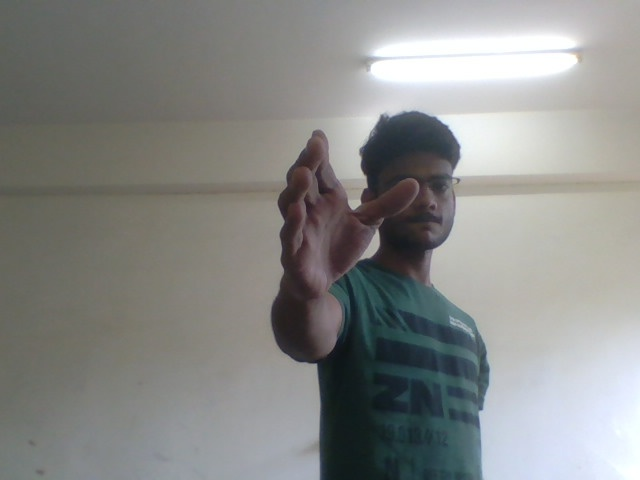Start: (258, 121, 428, 318)
